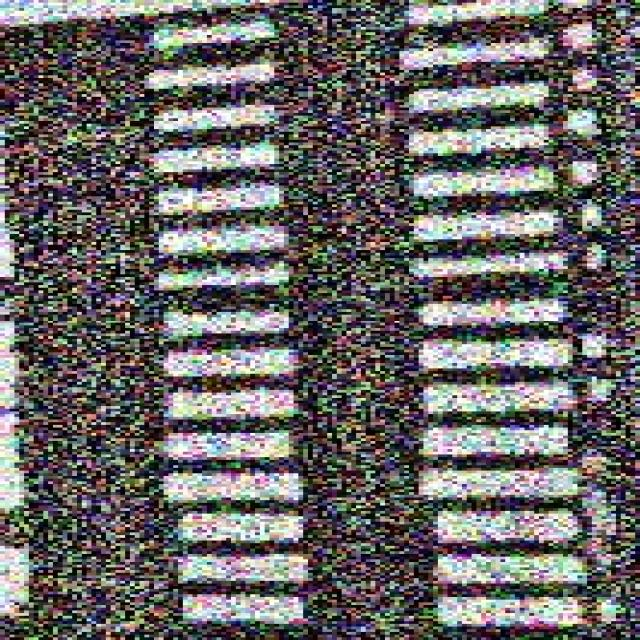igps: (0, 33, 621, 167), (0, 84, 624, 208), (0, 0, 621, 121), (0, 121, 622, 227), (0, 172, 624, 273), (16, 215, 622, 302), (0, 0, 606, 83), (7, 581, 632, 640), (0, 367, 625, 424), (5, 286, 622, 340), (9, 465, 624, 514), (4, 334, 625, 378), (0, 422, 619, 466), (15, 544, 627, 587), (0, 511, 621, 546)
